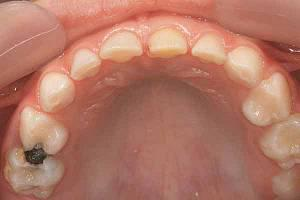UL1BC_healthy: (241, 73, 293, 127)
UL2BC_healthy: (261, 117, 300, 171)
ULCI_healthy: (144, 22, 190, 62)
ULC_healthy: (225, 46, 264, 87)
ULLI_healthy: (190, 29, 226, 67)
UR1BC_decay: (17, 108, 69, 157)
UR2BC_decay: (3, 149, 65, 200)
URCI_healthy: (100, 25, 144, 62)
URC_healthy: (38, 70, 77, 110)
URLI_healthy: (68, 48, 101, 80)
